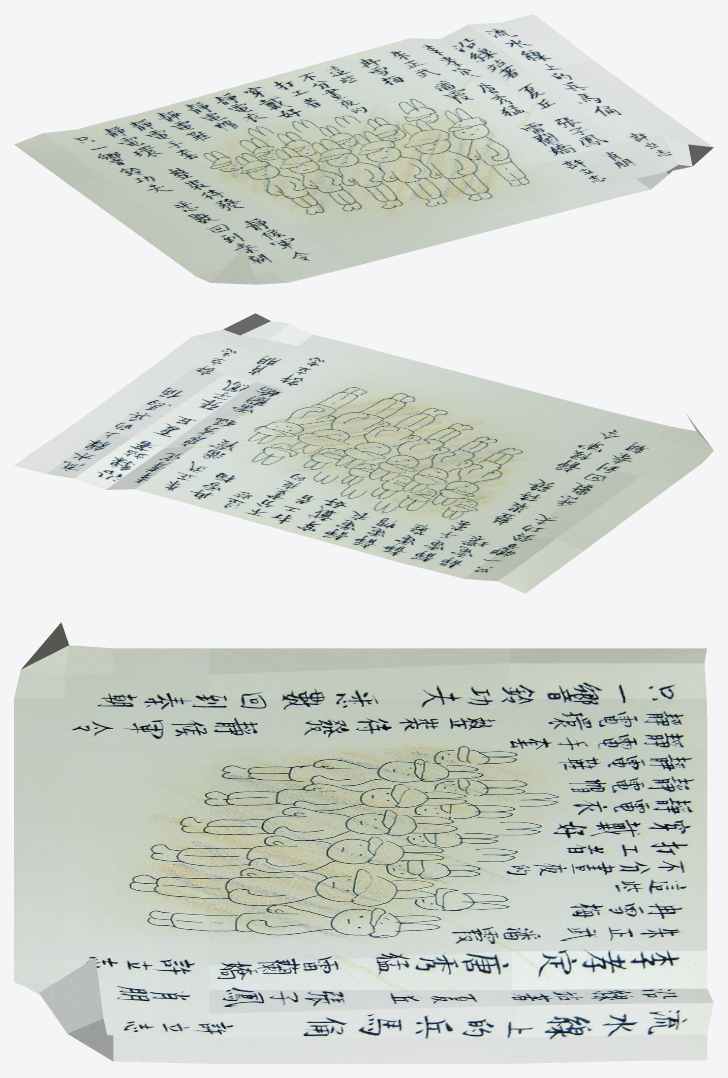
File: POEM paper.fbx
3 views of the same model, one above another, from view 1: azimuth 30°, elevation 25°; view 2: azimuth 150°, elevation 25°; view 3: azimuth 270°, elevation 25° (orthographic). The views are drawn at different scales.
Visible parts, largest first — view 1: Plane; view 2: Plane; view 3: Plane.
Part boxes in pixels (x1,y1,x2,y2): Plane: (14, 14, 713, 284); Plane: (14, 313, 713, 593); Plane: (14, 622, 713, 1063).
Bounding box in the file's own units: 285 × 19.35 × 202.
